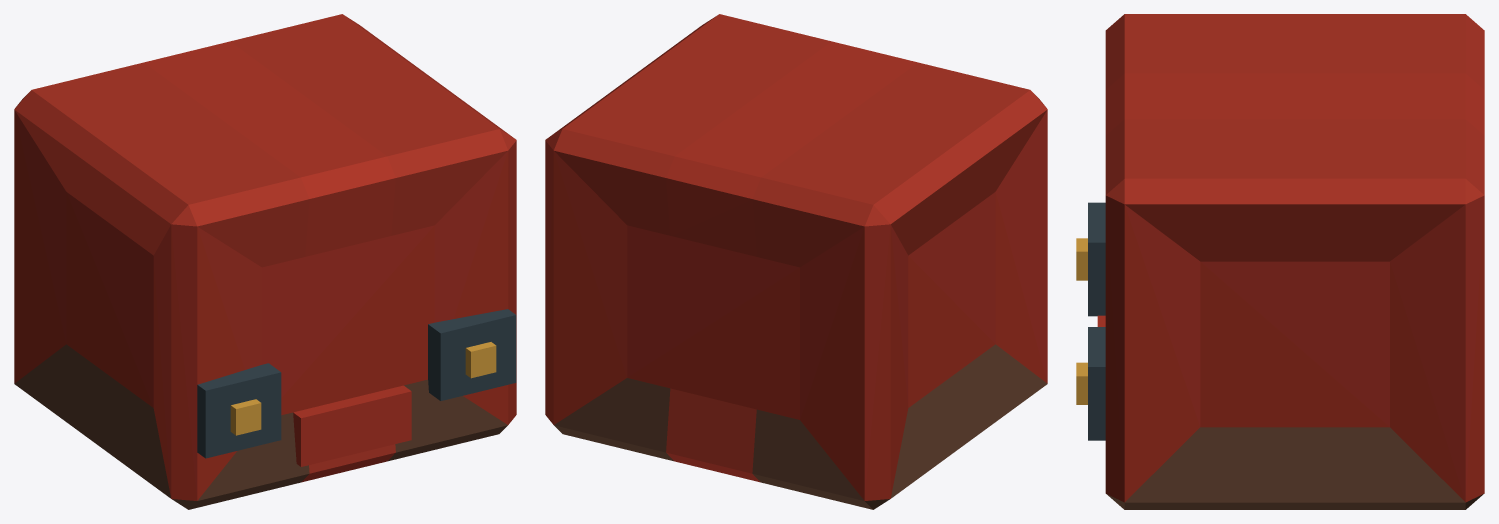
File: small-crate-coral.glb
The picture shows the model from 3 angles, left to right: view 1: azimuth 30°, elevation 25°; view 2: azimuth 150°, elevation 25°; view 3: azimuth 270°, elevation 25°; orthographic projection. The views are drawn at different scales.
Parts seen in each view (by area): view 1: small-crate-coral; view 2: small-crate-coral; view 3: small-crate-coral.
Part boxes in pixels (x1=…): small-crate-coral: x1=14, y1=14, x2=516, y2=509; small-crate-coral: x1=545, y1=14, x2=1047, y2=509; small-crate-coral: x1=1076, y1=14, x2=1484, y2=509.
Bounding box in the file's own units: 0.64 × 0.54 × 0.6033.
